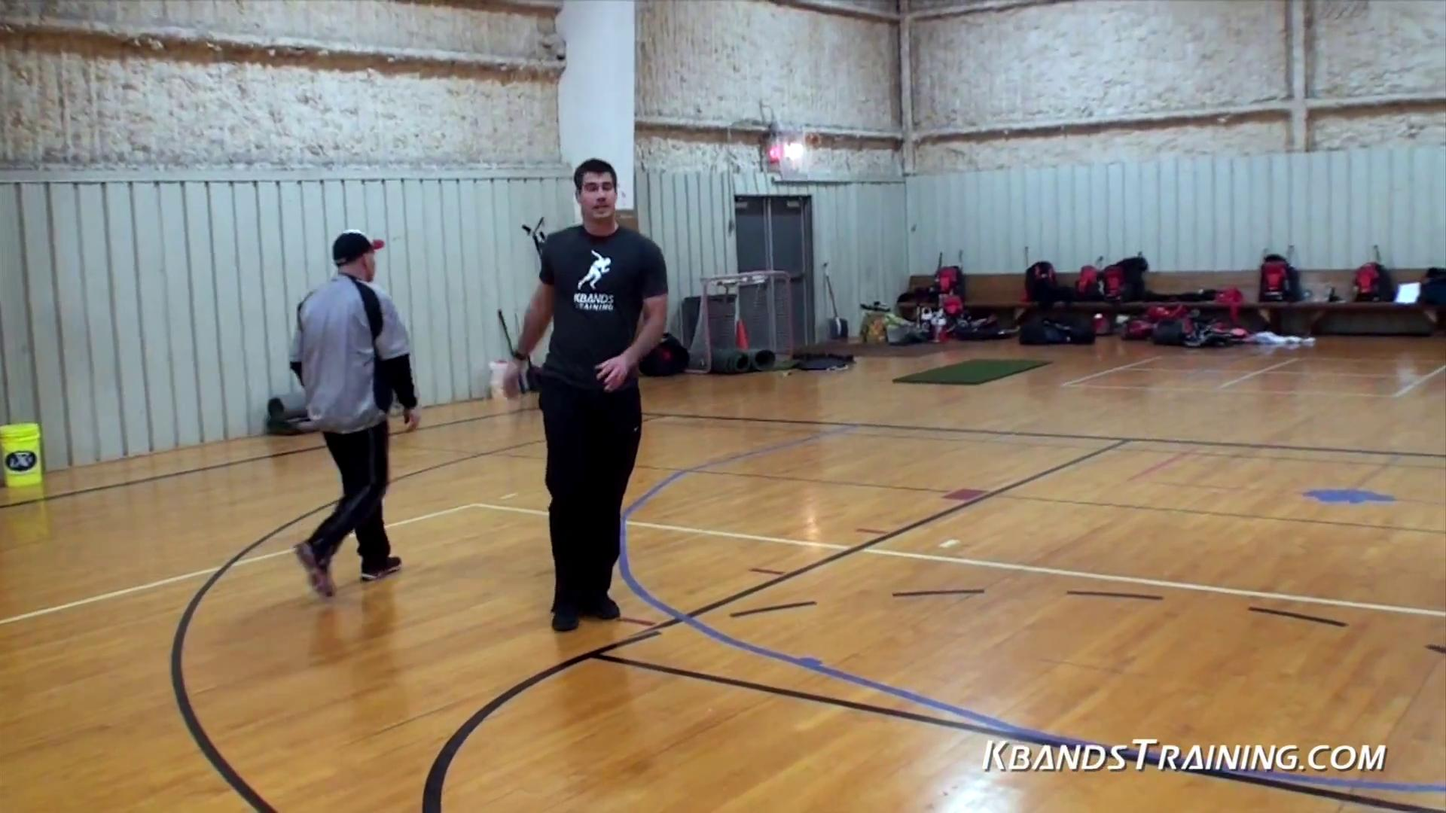victim: (489, 144, 682, 647), (267, 210, 441, 600)
